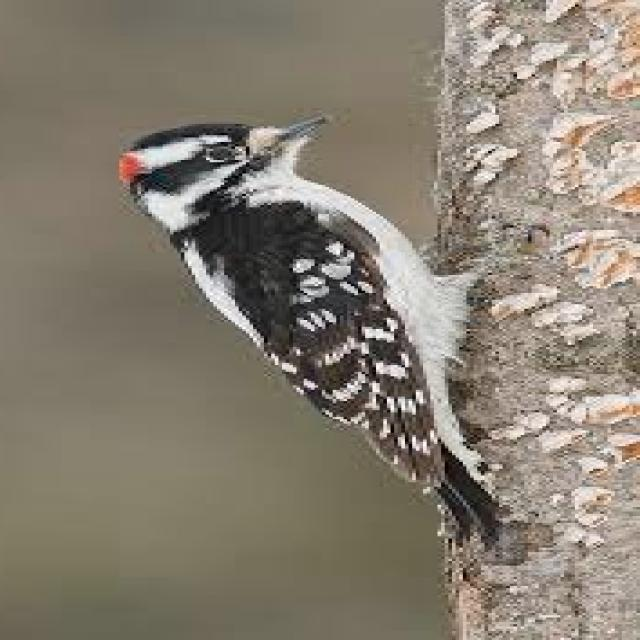woodpecker: (123, 117, 503, 543)
